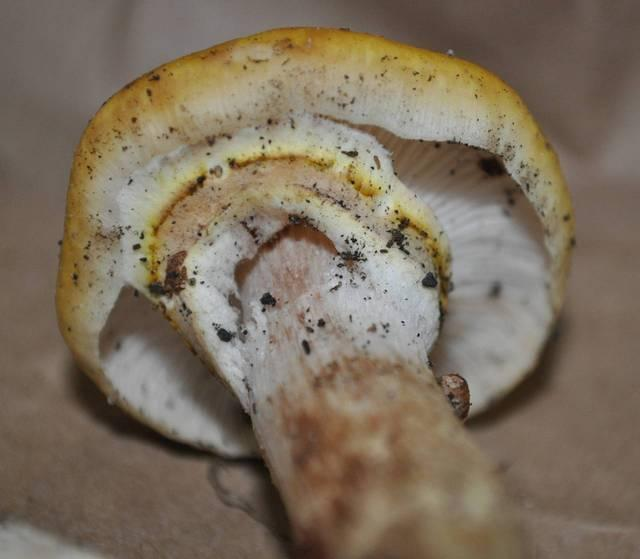Edible Mushroom: (54, 24, 576, 558)
